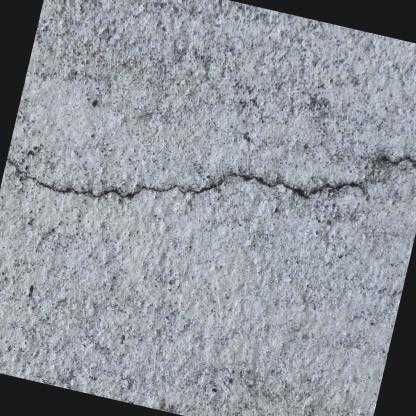crack: (6, 156, 416, 198)
